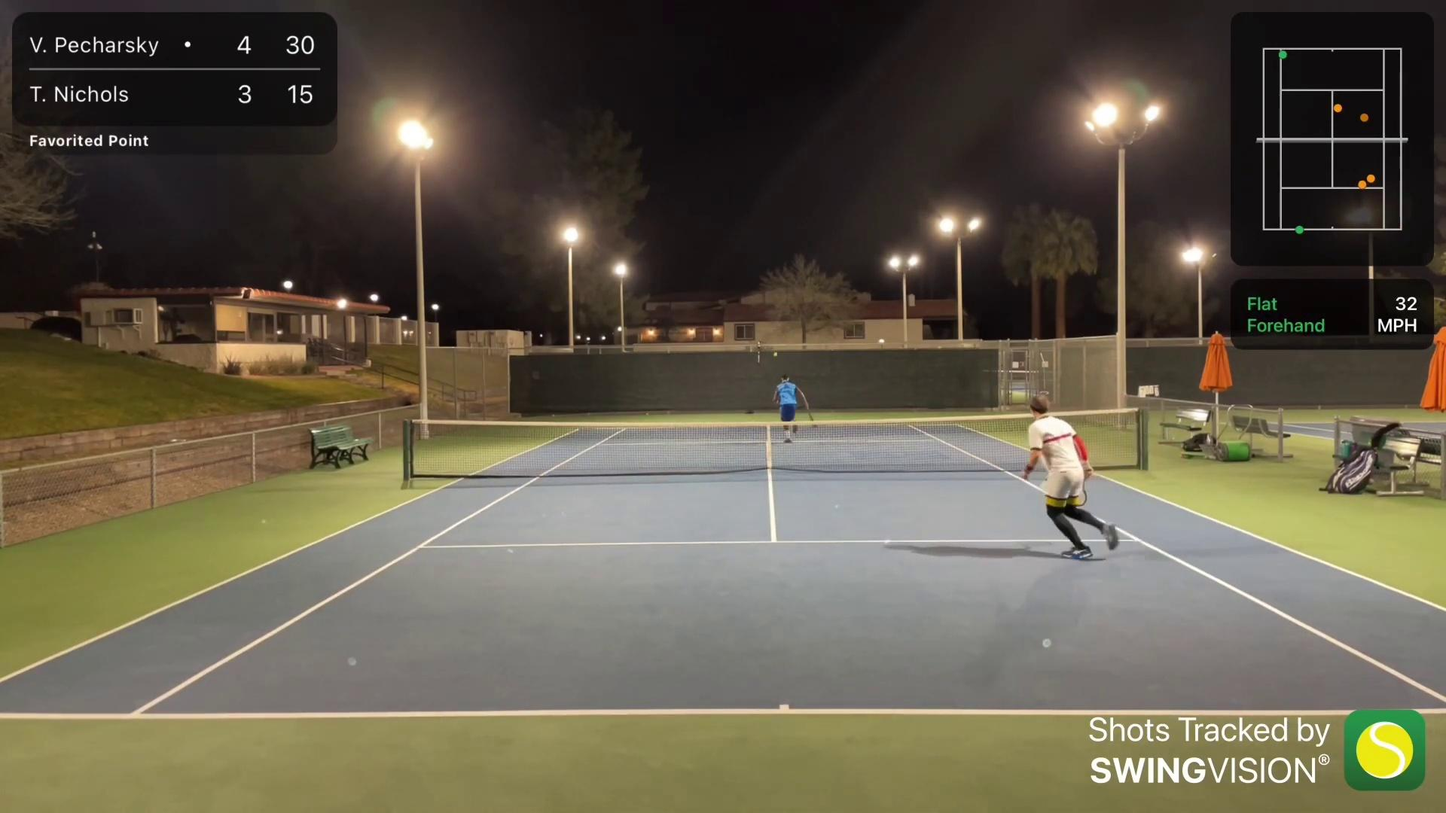ball: (771, 352, 778, 358)
